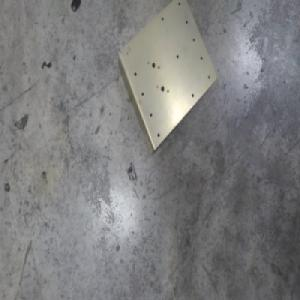MetalSheet: (116, 0, 217, 157)
